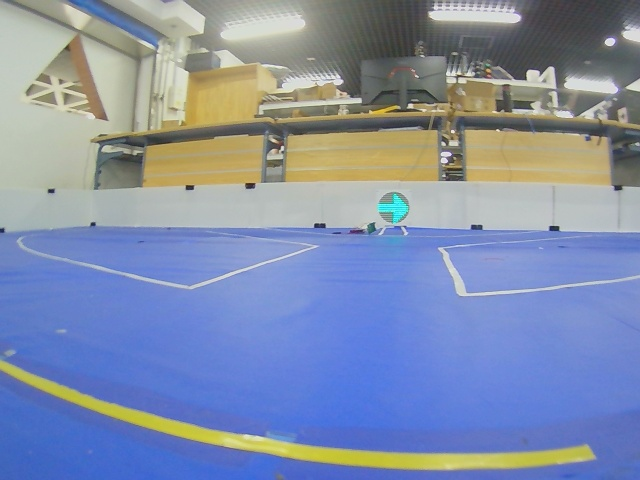right_green: (377, 192, 410, 224)
